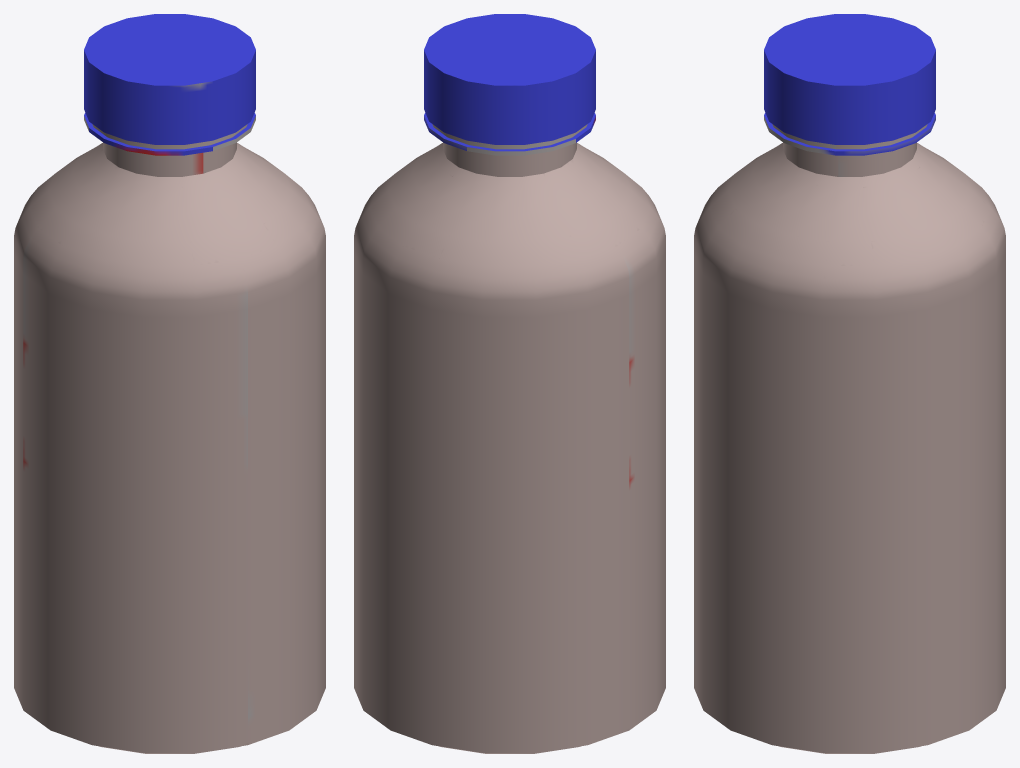
The model's file is Lab_Tools_Medium_Bottle.fbx.
3 views of the same model, side by side, from view 1: azimuth 30°, elevation 25°; view 2: azimuth 150°, elevation 25°; view 3: azimuth 270°, elevation 25° (orthographic).
Visible parts, largest first — view 1: Medium_Bottle; view 2: Medium_Bottle; view 3: Medium_Bottle.
Boxes of the visible parts, x1,y1,x2,y2 form: Medium_Bottle: (14, 14, 325, 753); Medium_Bottle: (354, 14, 665, 753); Medium_Bottle: (694, 14, 1005, 753).
Size of the model in its own units: 0.0552 by 0.1296 by 0.0561.
